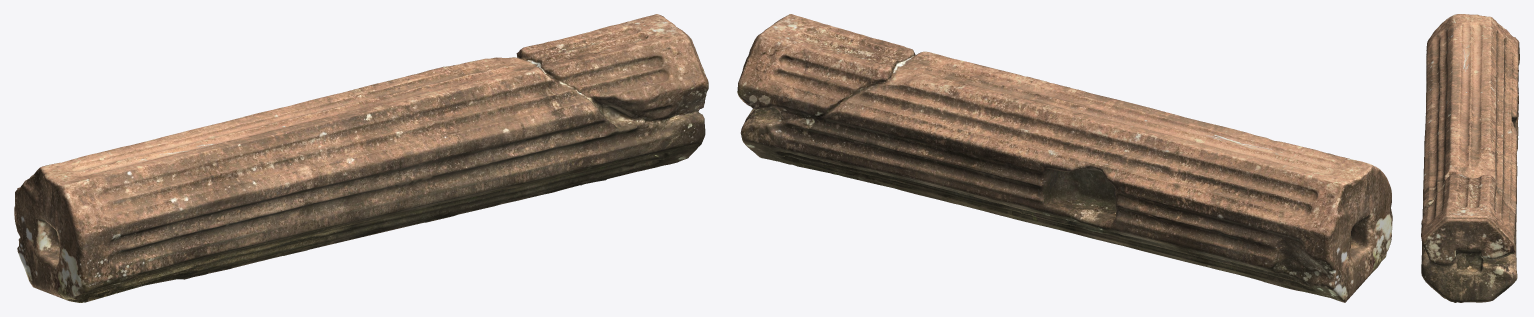
The model's file is 30_MysonSanctuaryB_Trucot_final.glb.
3 renders of one model, left to right at view 1: azimuth 30°, elevation 25°; view 2: azimuth 150°, elevation 25°; view 3: azimuth 270°, elevation 25°, orthographic. The views are drawn at different scales.
Bounding box in the file's own units: 2.52 × 0.4934 × 0.505.
1 material, 1 textured.
